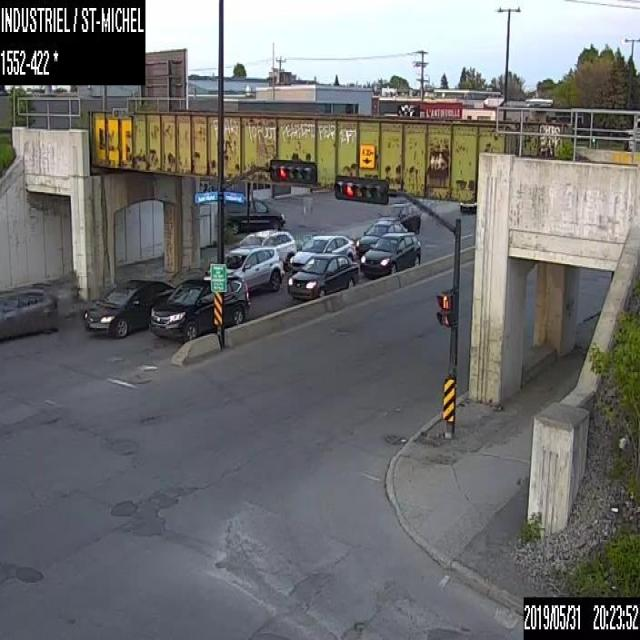vehicle: (150, 275, 249, 342), (84, 278, 176, 342), (202, 246, 284, 292), (287, 252, 358, 301), (0, 284, 58, 340), (358, 230, 421, 277), (231, 228, 295, 270), (290, 234, 355, 272), (224, 196, 284, 234), (357, 218, 407, 257), (376, 203, 420, 234), (458, 199, 476, 213)
